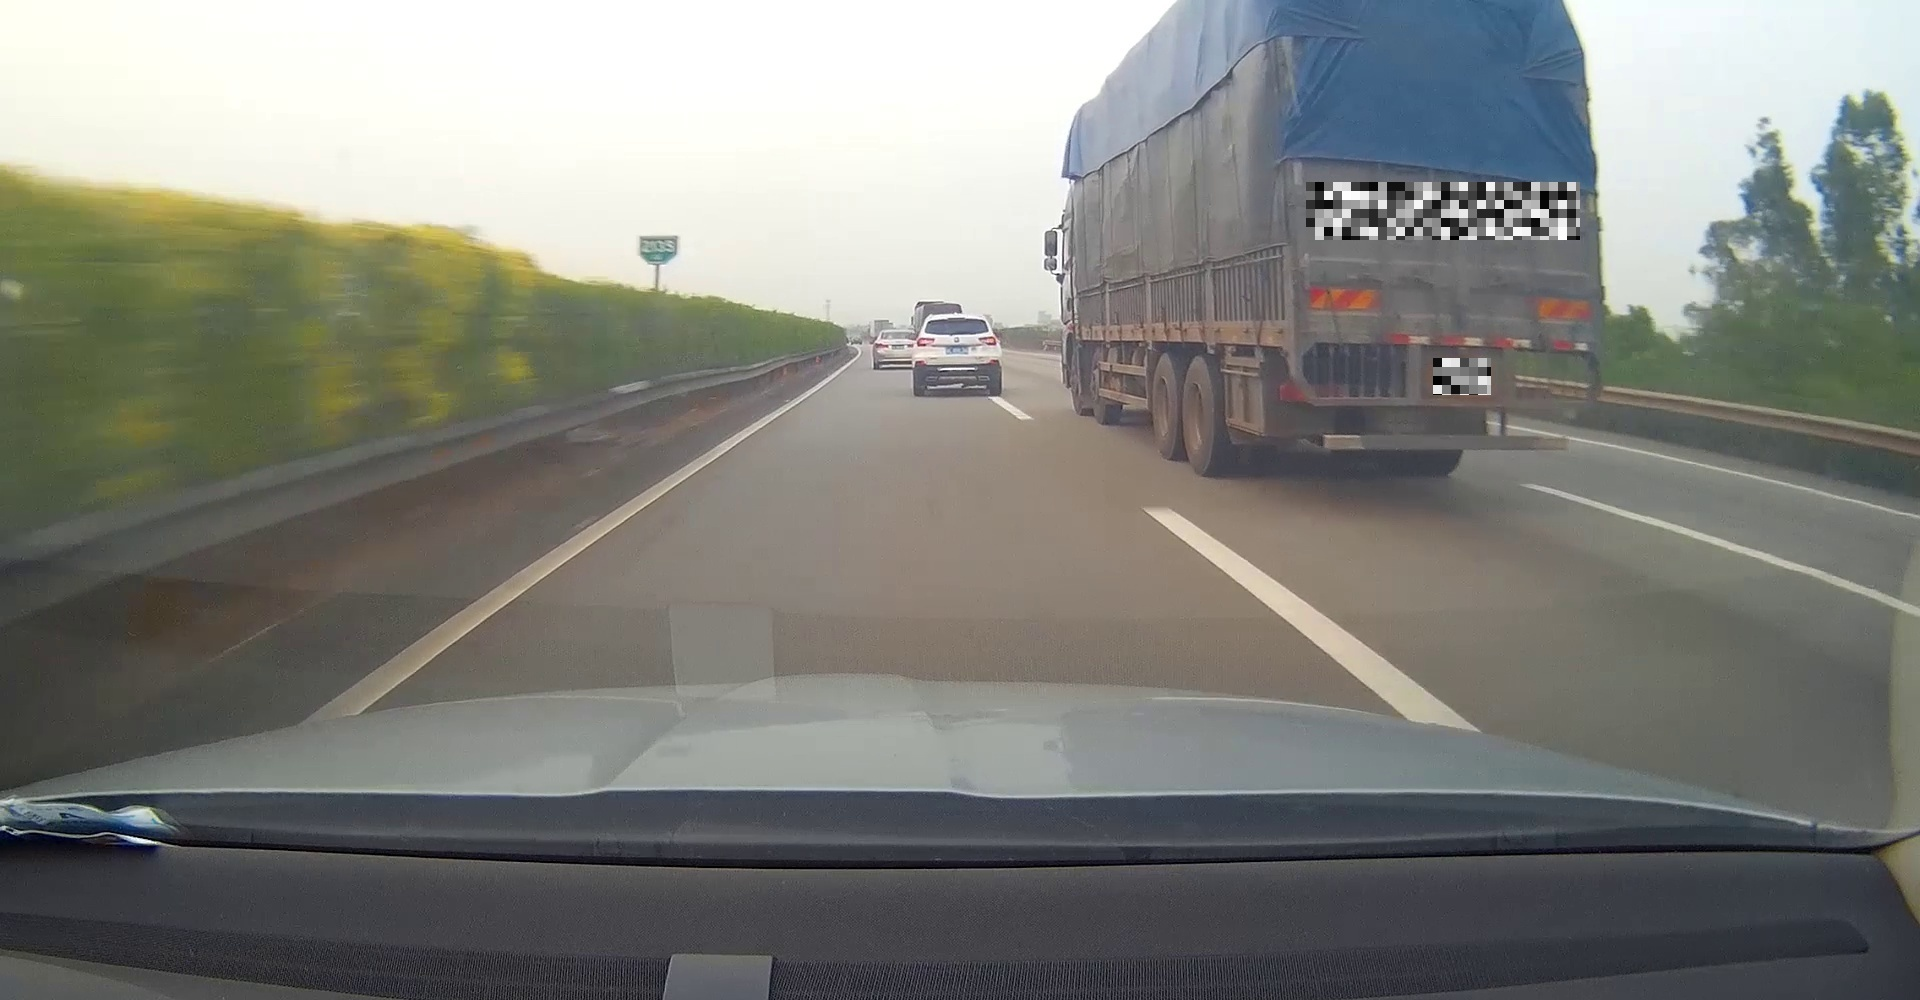L_light: (916, 338, 935, 346)
R_light: (978, 336, 996, 345)
T_light: (947, 319, 966, 321)
day-no: (914, 312, 1001, 396)
plate_1: (1305, 181, 1580, 240)
plate_2: (1432, 358, 1491, 395)
